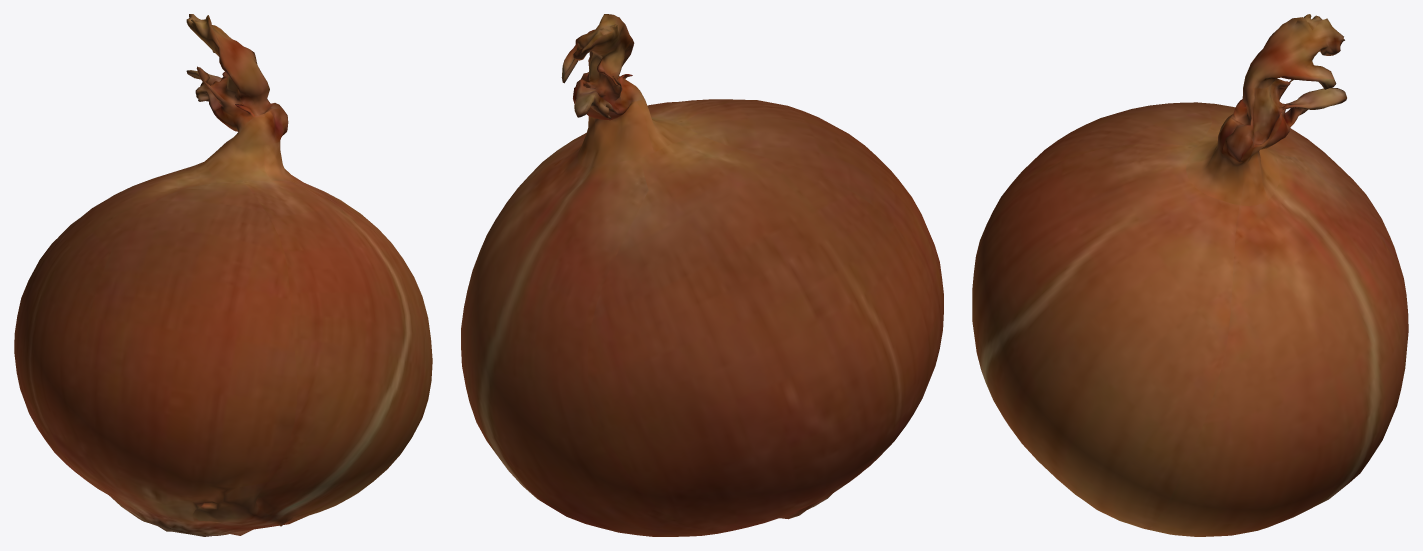
File: yellow_onion.glb
3 views of the same model, side by side, from view 1: azimuth 30°, elevation 25°; view 2: azimuth 150°, elevation 25°; view 3: azimuth 270°, elevation 25° (orthographic). The views are drawn at different scales.
Parts seen in each view (by area): view 1: yellow_onion; view 2: yellow_onion; view 3: yellow_onion.
Part boxes in pixels (box(x1,y1,x2,y2)): yellow_onion: box(14, 14, 432, 536); yellow_onion: box(461, 14, 943, 536); yellow_onion: box(972, 14, 1408, 536).
Size of the model in its own units: 0.0725 by 0.0864 by 0.0686.
1 material, 1 textured.
